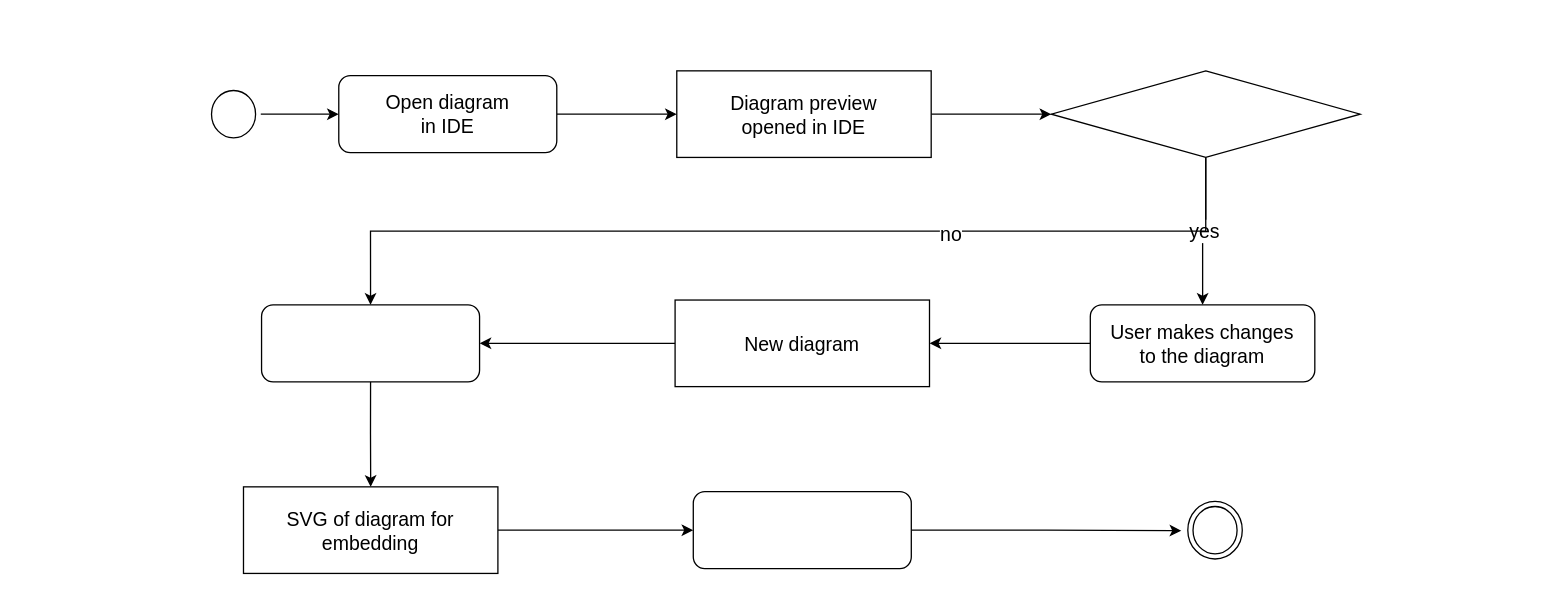
Image size: 1565x597. Some labels were removed from this diagram. Each missing label, with the box of its shape:
User embeds diagram in documentation: (692, 490, 911, 569)
User generates SVG with extension: (260, 304, 480, 382)
User wants to modify diagram?: (1050, 70, 1360, 157)
